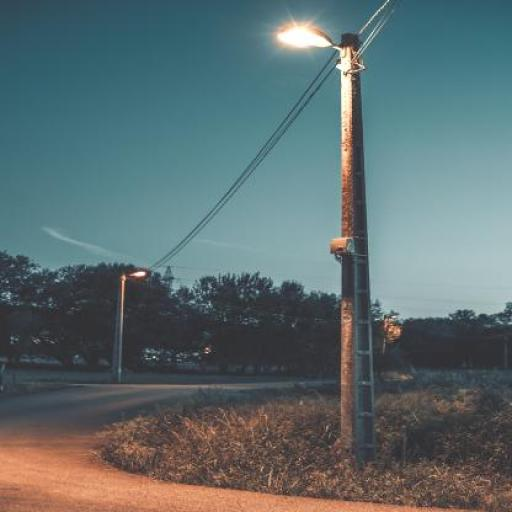street light: (274, 27, 380, 457), (119, 272, 149, 382)
